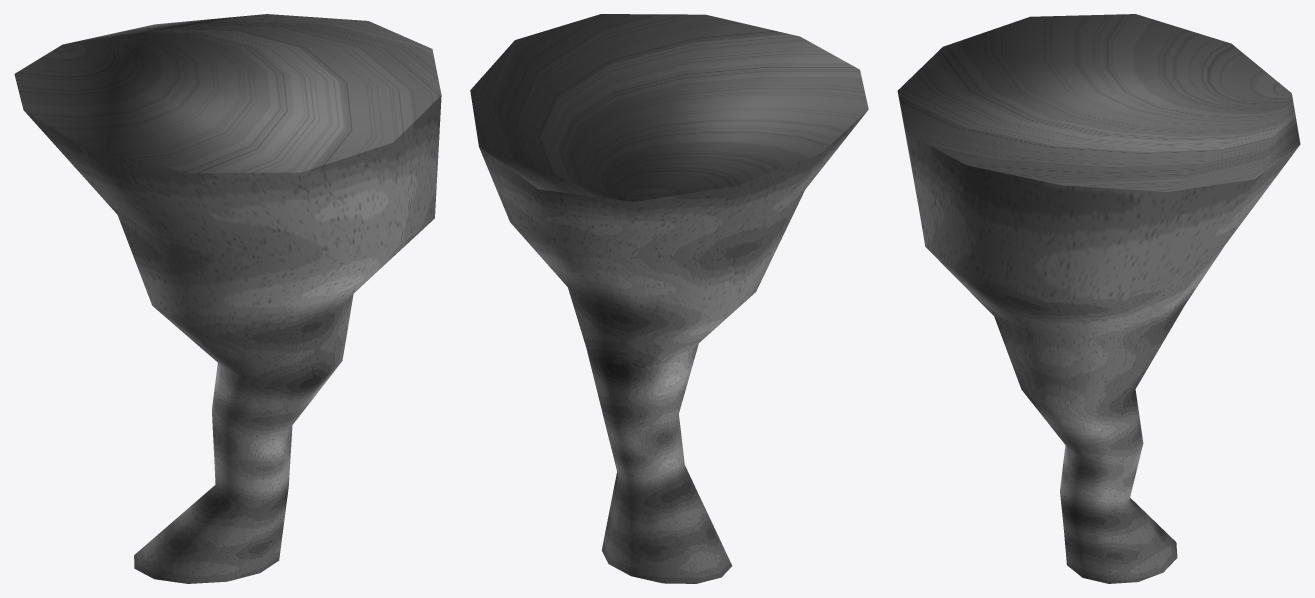
File: ultiAire.fbx
The picture shows the model from 3 angles, left to right: view 1: azimuth 30°, elevation 25°; view 2: azimuth 150°, elevation 25°; view 3: azimuth 270°, elevation 25°; orthographic projection. The views are drawn at different scales.
Visible parts, largest first — view 1: tornado; view 2: tornado; view 3: tornado.
Boxes of the visible parts, box(x1,y1,x2,y2) form: tornado: box(14, 14, 441, 583); tornado: box(470, 14, 868, 583); tornado: box(897, 14, 1300, 583).
Size of the model in its own units: 1943 by 2439 by 1938.
3 materials, 3 textured.
